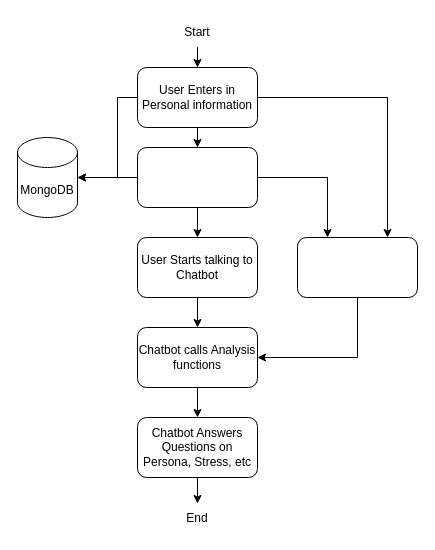
The diagram is 435 pixels wide and 550 high, and some of its shapes have lost their labels. The box of each missing label's shape, as (x1, y1, x2, y2) in pixels:
K-Means-based model to Analyze Persoanlity: (296, 236, 418, 298)
User Takes Personality Test: (136, 146, 258, 208)
